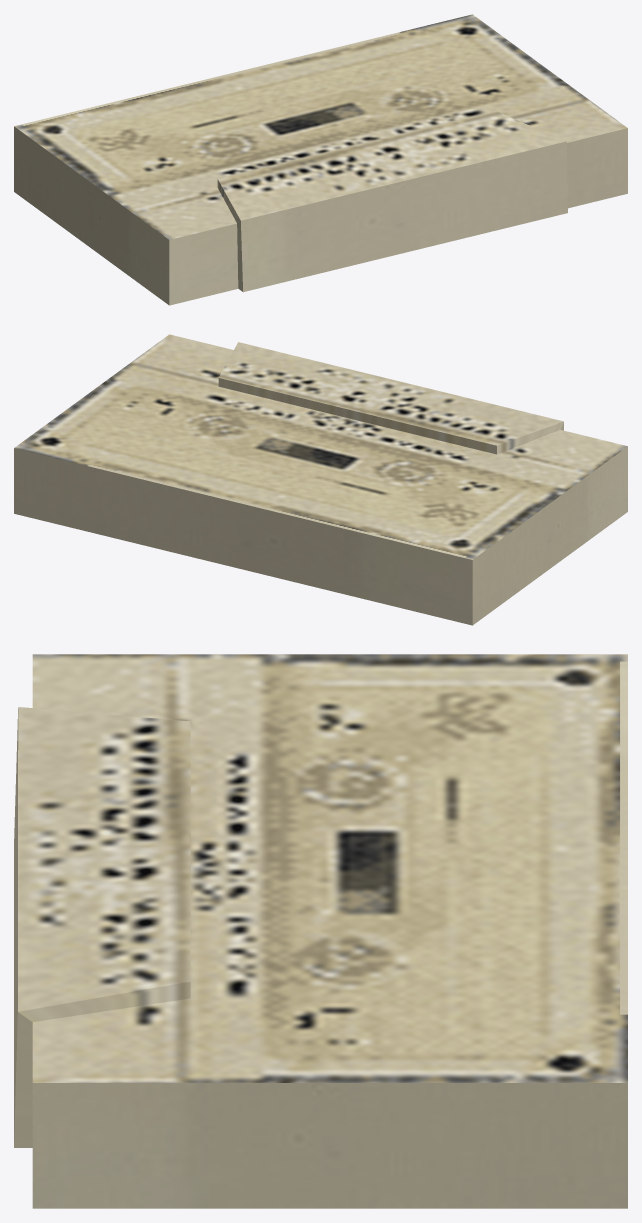
File: audio-tape.fbx
The picture shows the model from 3 angles, top to bottom: view 1: azimuth 30°, elevation 25°; view 2: azimuth 150°, elevation 25°; view 3: azimuth 270°, elevation 25°; orthographic projection. The views are drawn at different scales.
Visible parts, largest first — view 1: casetteTape; view 2: casetteTape; view 3: casetteTape.
Boxes of the visible parts, bbox=[...] form: casetteTape: bbox=[14, 14, 627, 305]; casetteTape: bbox=[14, 334, 627, 625]; casetteTape: bbox=[14, 654, 627, 1208].
Bounding box in the file's own units: 17.38 × 2.69 × 10.52.
Materials: 1 (1 with a texture image).
